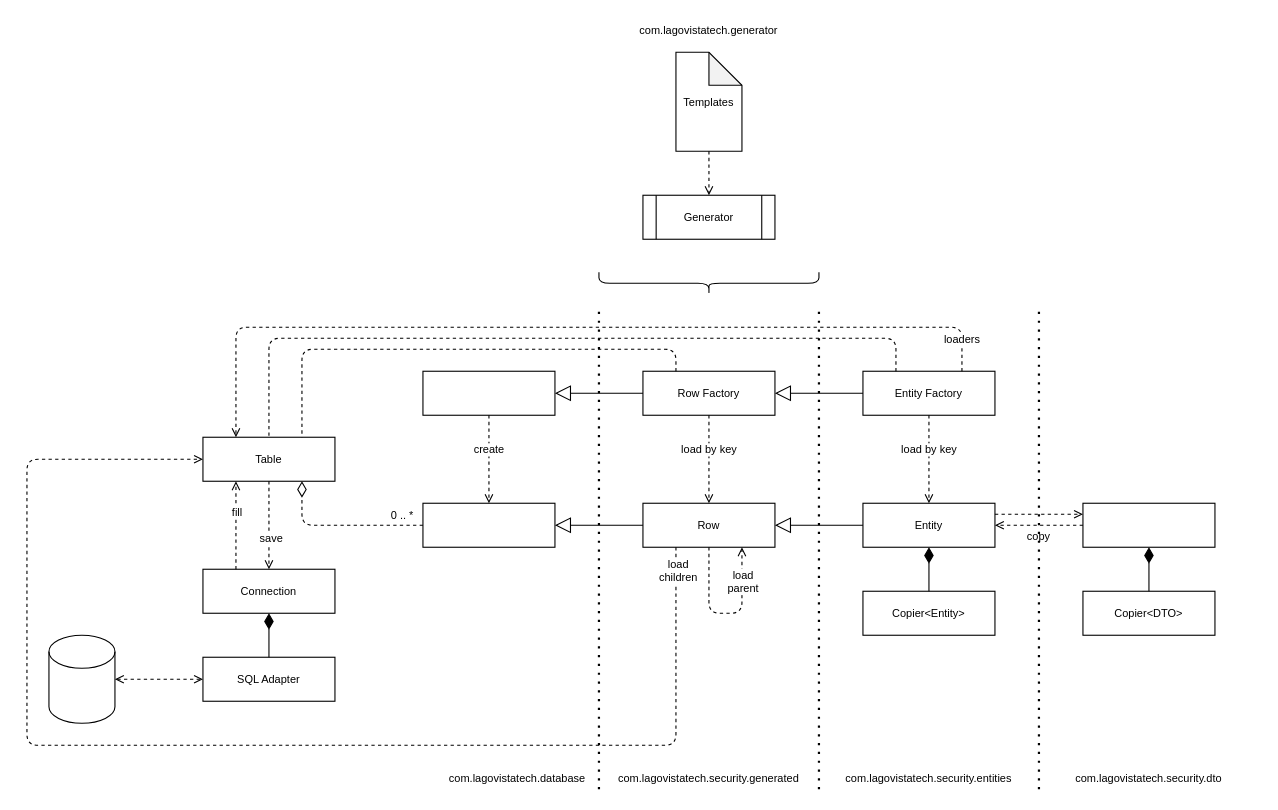
This 1278x810 diagram has some shape labels left out. Each missing label, with the centre of its shape:
Data Transfer Object (DTO): pixel 1148 524
DB: pixel 81 678
Factory<T>: pixel 488 392
generates: pixel 708 282
Versioned Row: pixel 488 524
